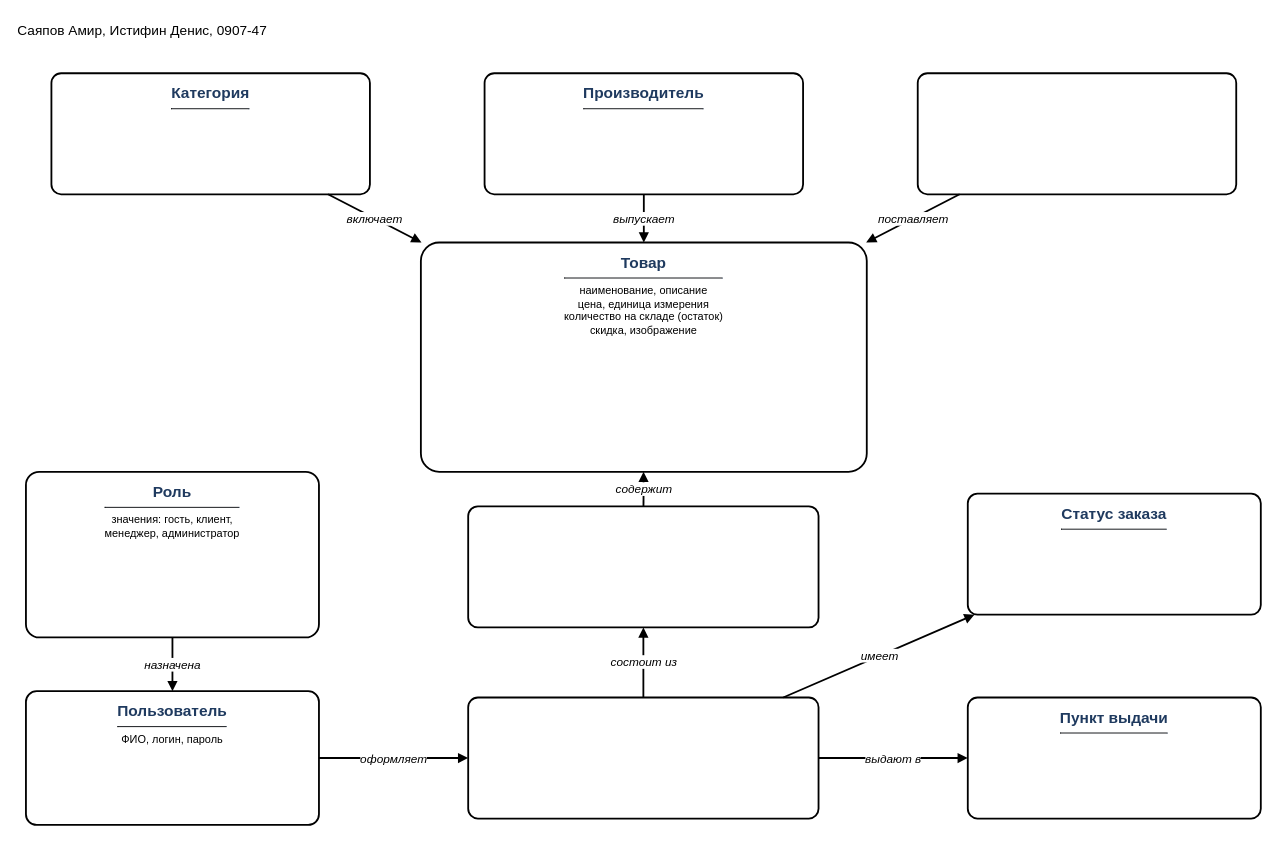
The diagram is 1277 pixels wide and 841 high, and some of its shapes have lost their labels. The box of each missing label's shape, as (x1, y1, x2, y2) in pixels:
Заказ: (467, 696, 819, 819)
Поставщик: (916, 72, 1237, 195)
Строка заказа: (467, 505, 819, 628)
